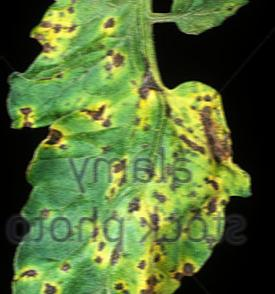Tomato Septoria leaf spot: (0, 39, 244, 294)
